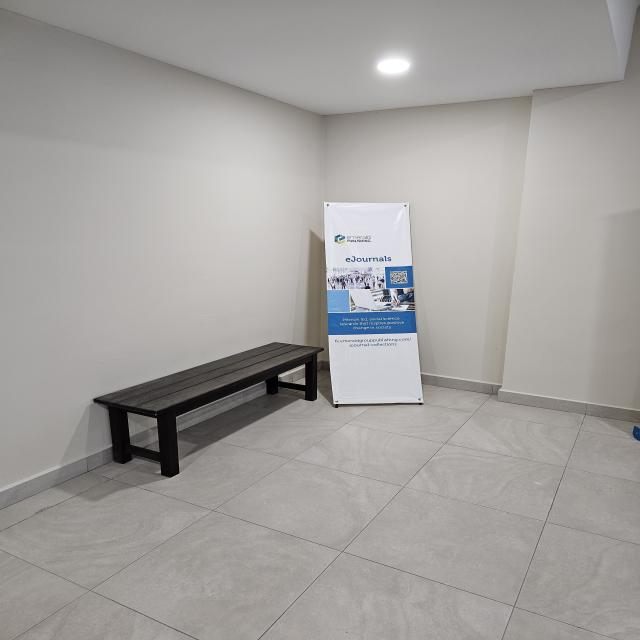footpath: (2, 452, 636, 638)
obstacle: (82, 330, 314, 464), (321, 199, 421, 408)
